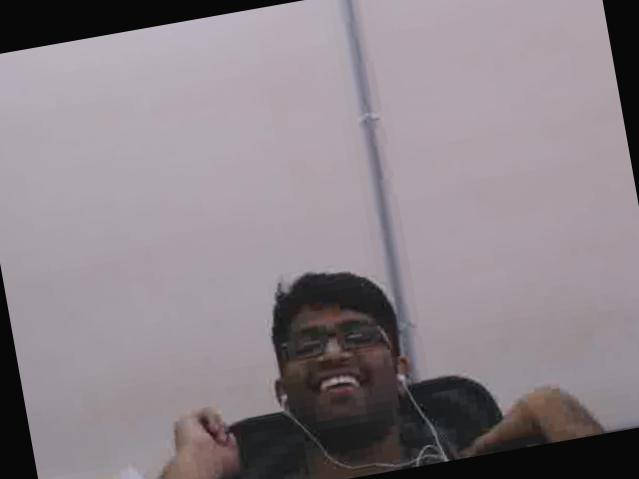bosan: (274, 292, 397, 424)
